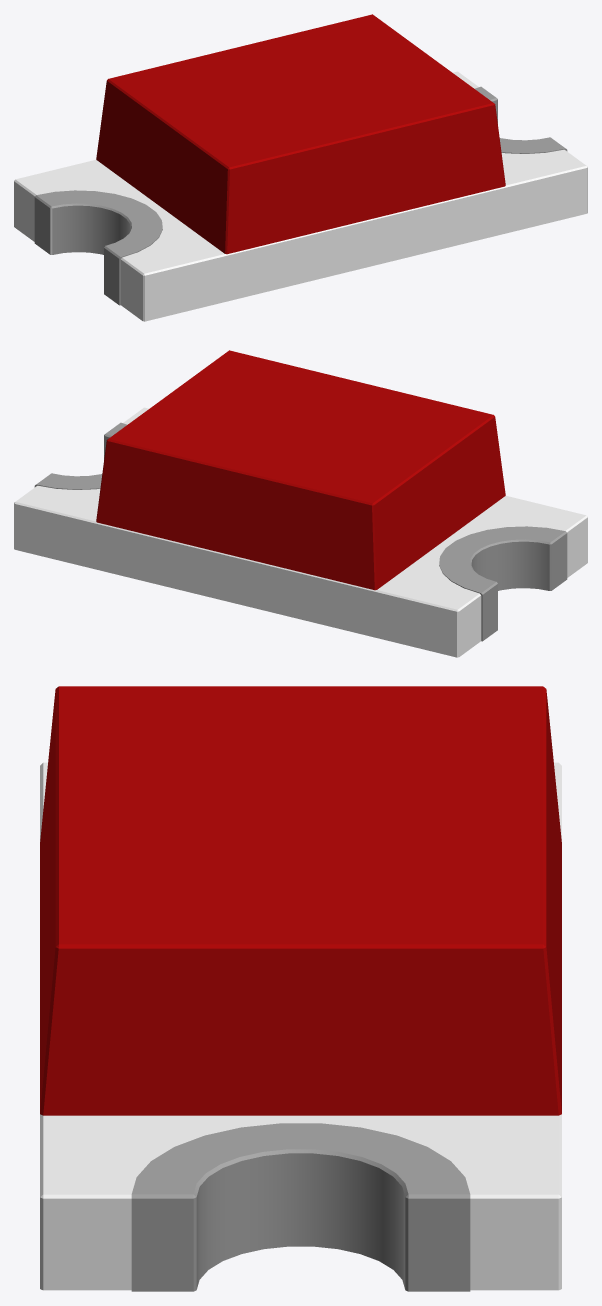
File: LED1206-RED.glb
The picture shows the model from 3 angles, top to bottom: view 1: azimuth 30°, elevation 25°; view 2: azimuth 150°, elevation 25°; view 3: azimuth 270°, elevation 25°; orthographic projection. The views are drawn at different scales.
Visible parts, largest first — view 1: LED_1206_Red; view 2: LED_1206_Red; view 3: LED_1206_Red.
Part boxes in pixels (bbox=[...]): LED_1206_Red: bbox=[14, 14, 587, 321]; LED_1206_Red: bbox=[14, 350, 587, 657]; LED_1206_Red: bbox=[40, 686, 561, 1291].
Bounding box in the file's own units: 0.00327 × 0.0009 × 0.00165.
